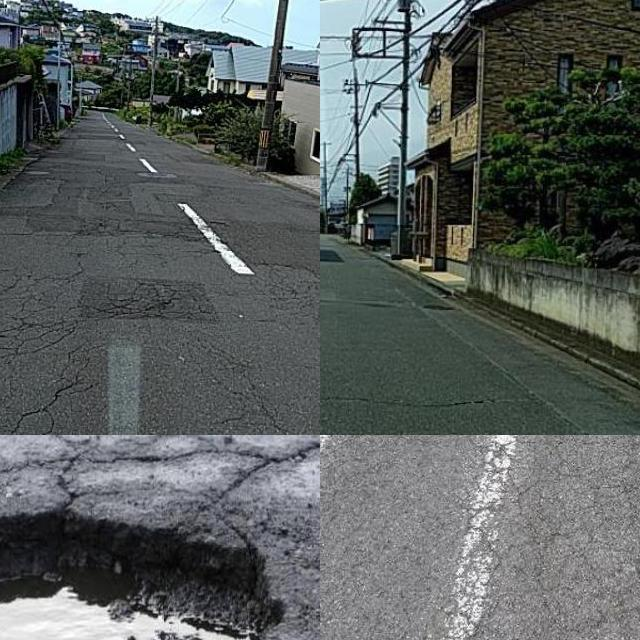Lubang: (0, 511, 278, 640)
Melintang: (320, 383, 516, 418)
Retak Buaya: (458, 435, 640, 640), (0, 274, 80, 435)
